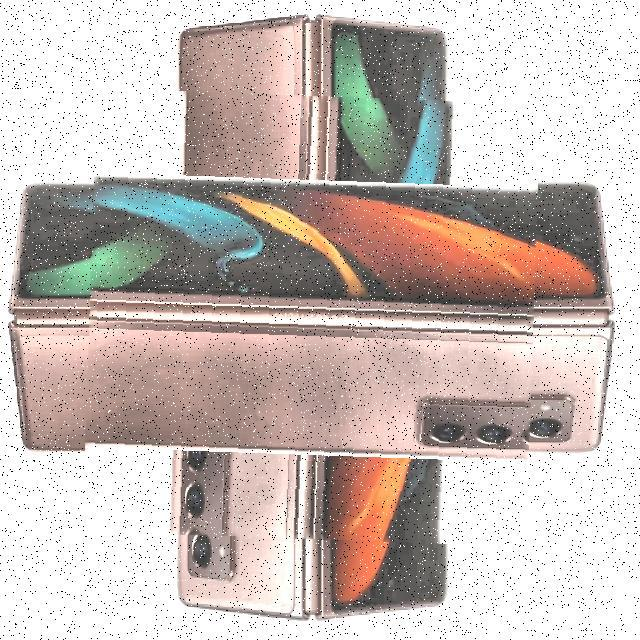Phone: (86, 92, 538, 543)
